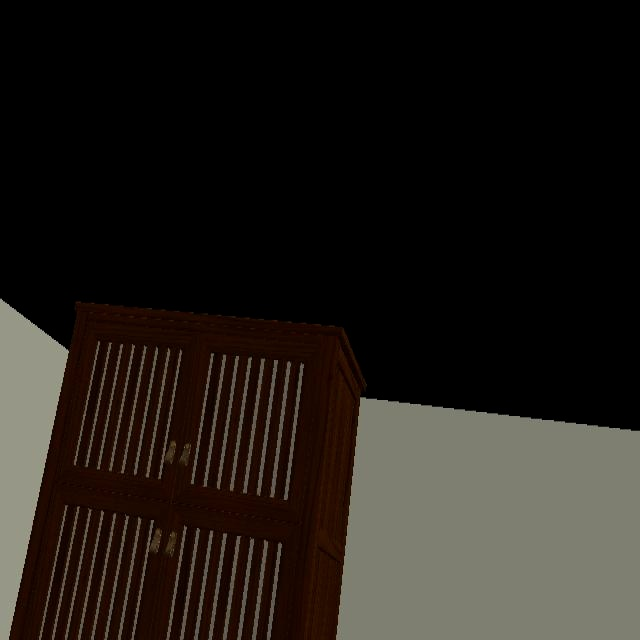wardrobe: (8, 303, 367, 640)
